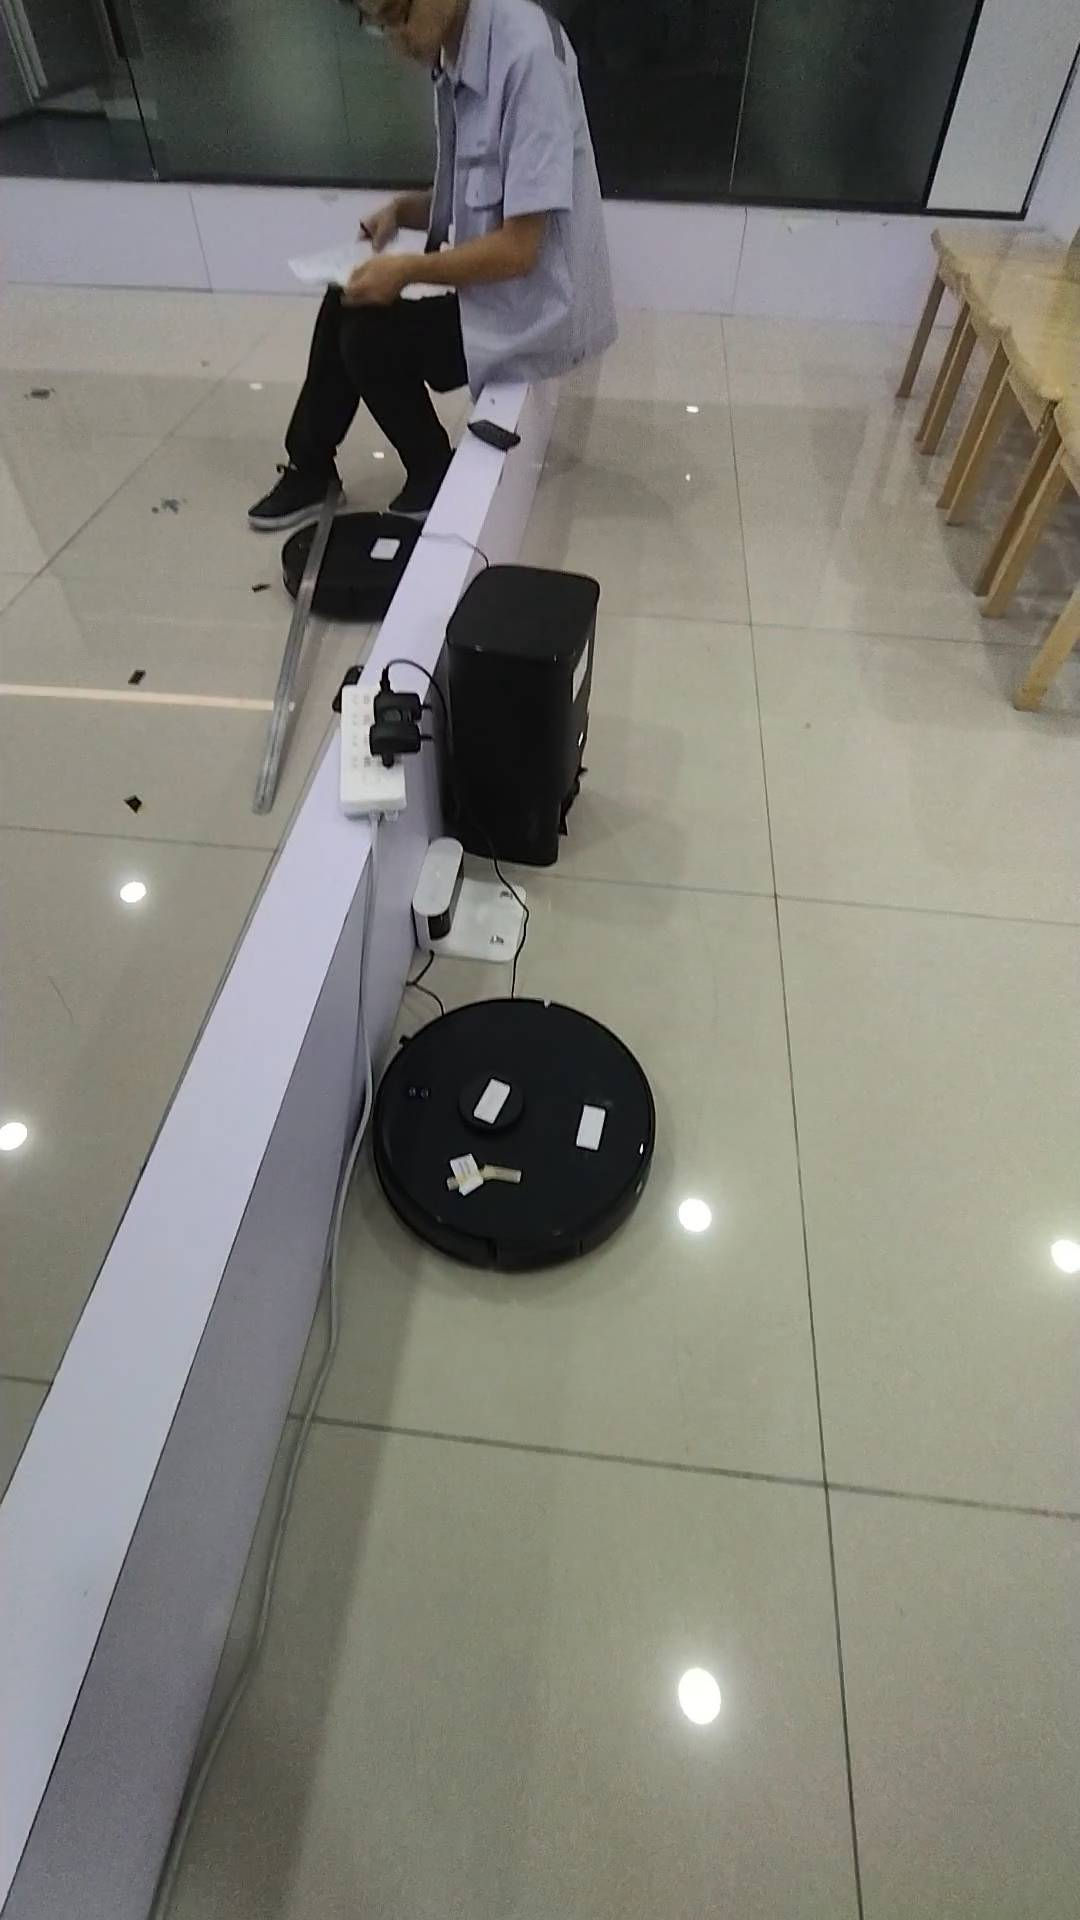dust collecting barrel: (446, 563, 600, 866)
recharge seat: (413, 833, 526, 967)
